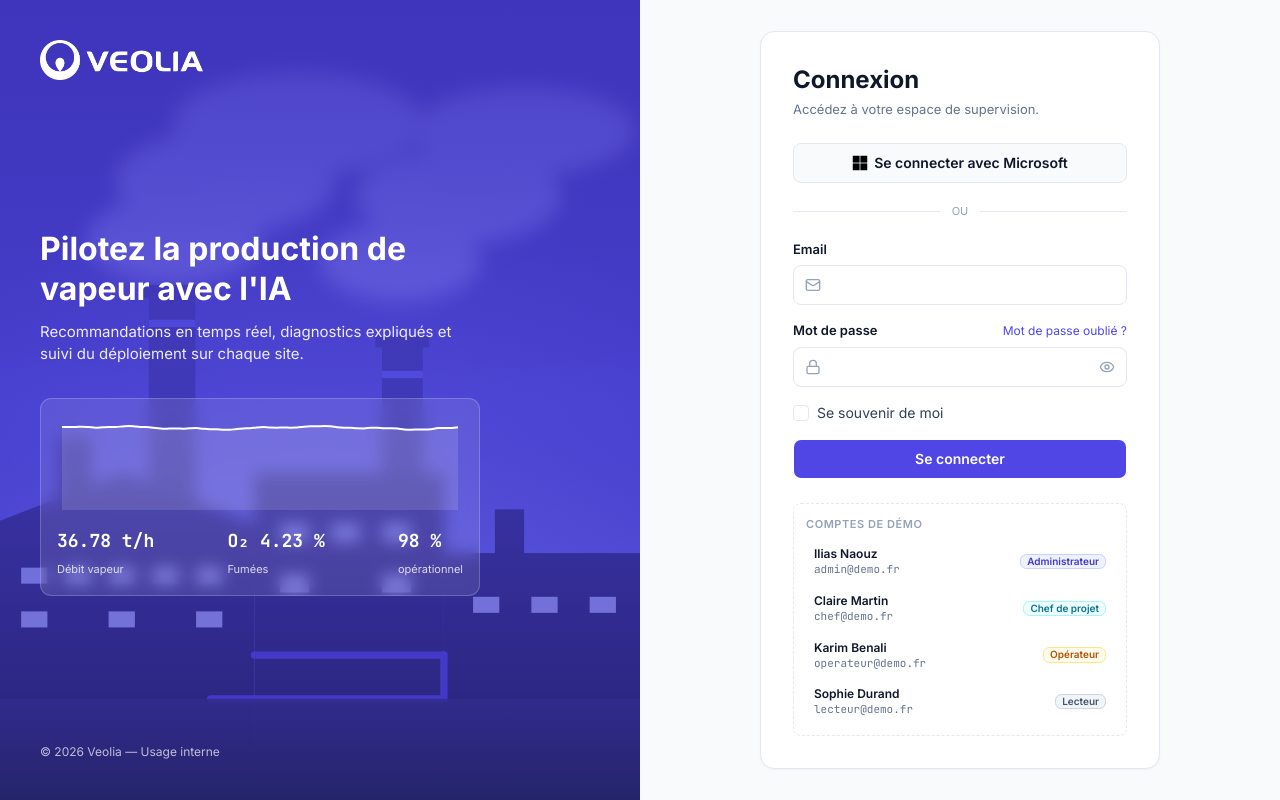
Scenario: authentification › valide le format de l’email
The image size is (1280, 800).
In the field labelled "Email": (960, 285) x1=793 y1=265 x2=1127 y2=305, type "pas-un-email"
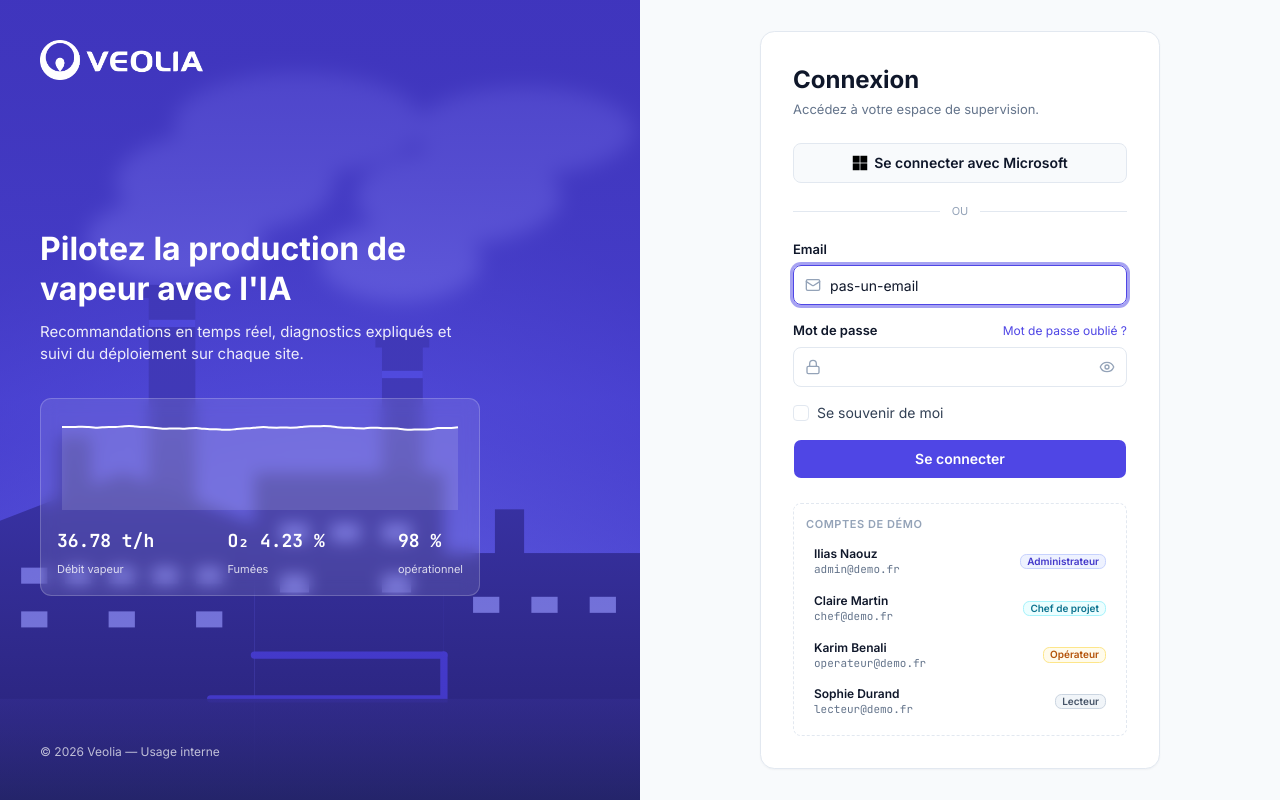
In the password field labelled "Mot de passe": (960, 367) x1=793 y1=347 x2=1127 y2=387, type "x"
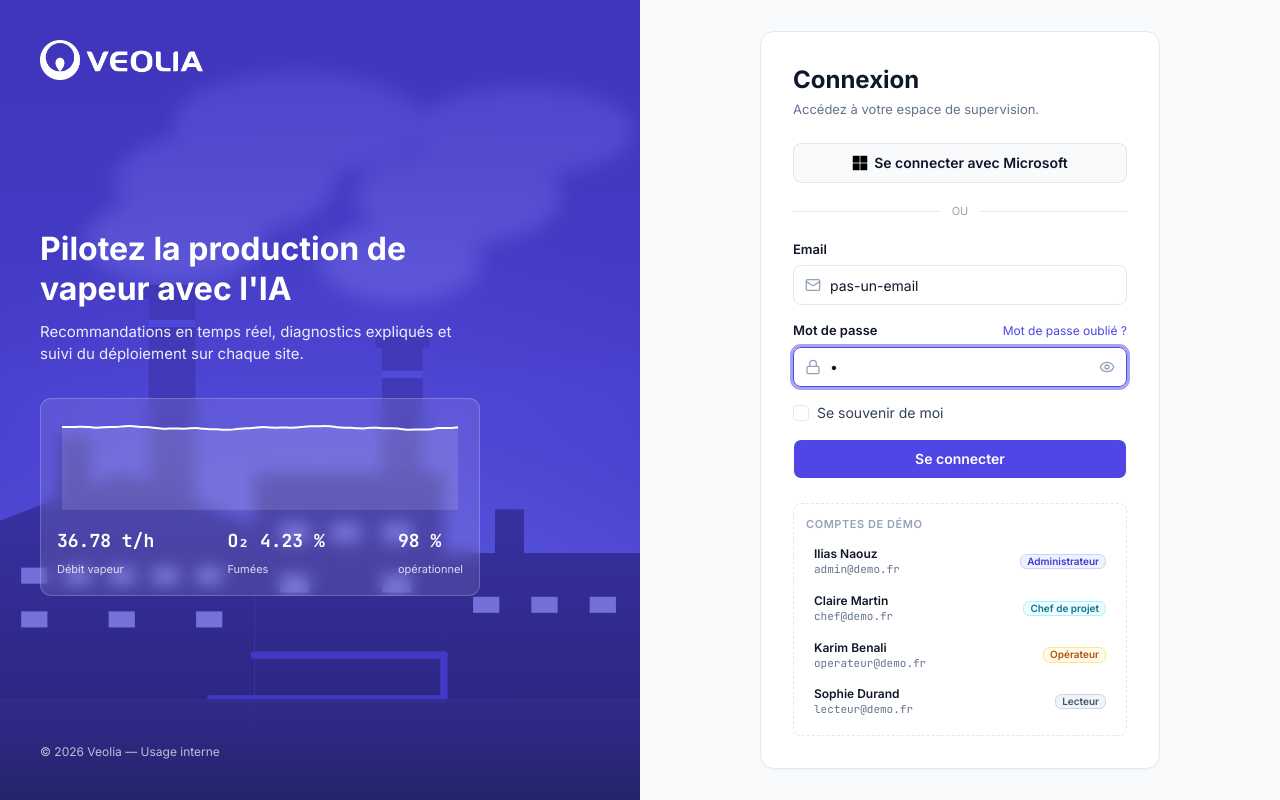
Click the button "Se connecter": (960, 459) x1=793 y1=439 x2=1127 y2=479
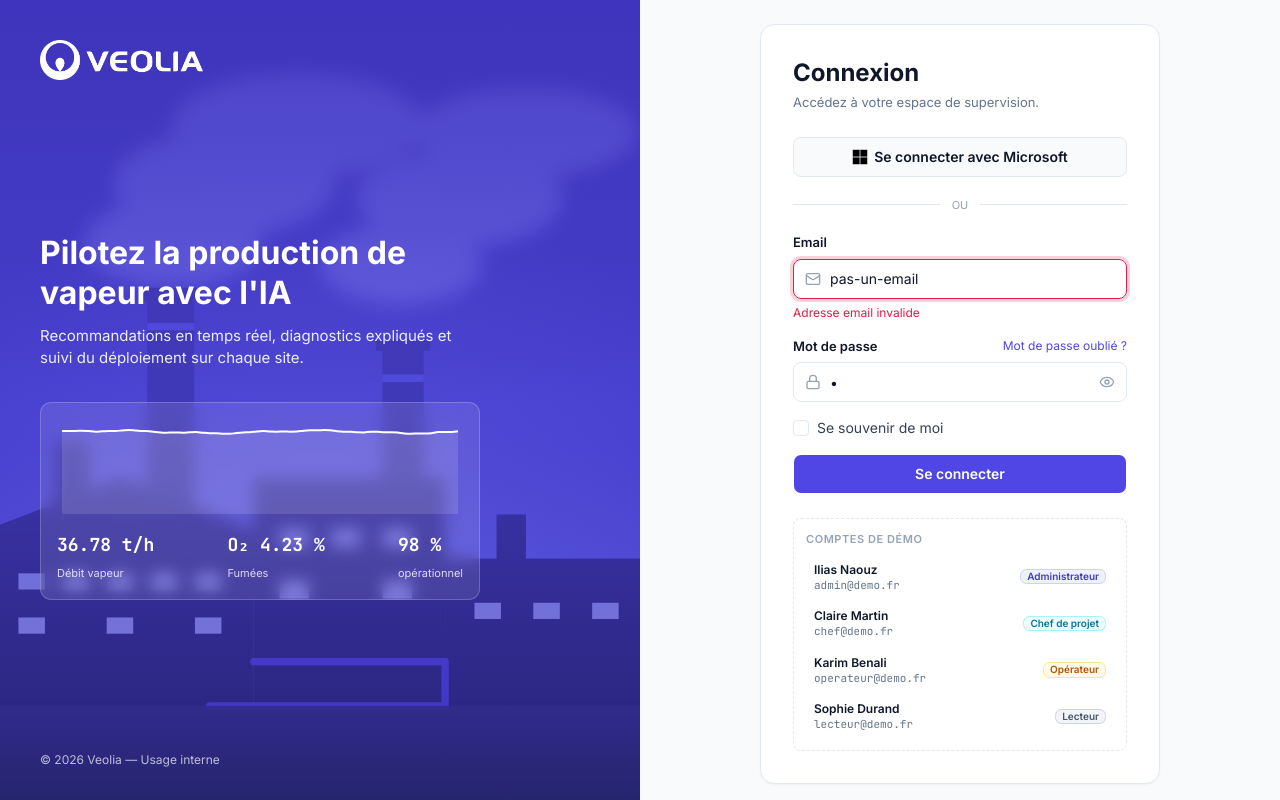
Check: the text "Adresse email invalide" is shown, box x1=793 y1=304 x2=920 y2=320
